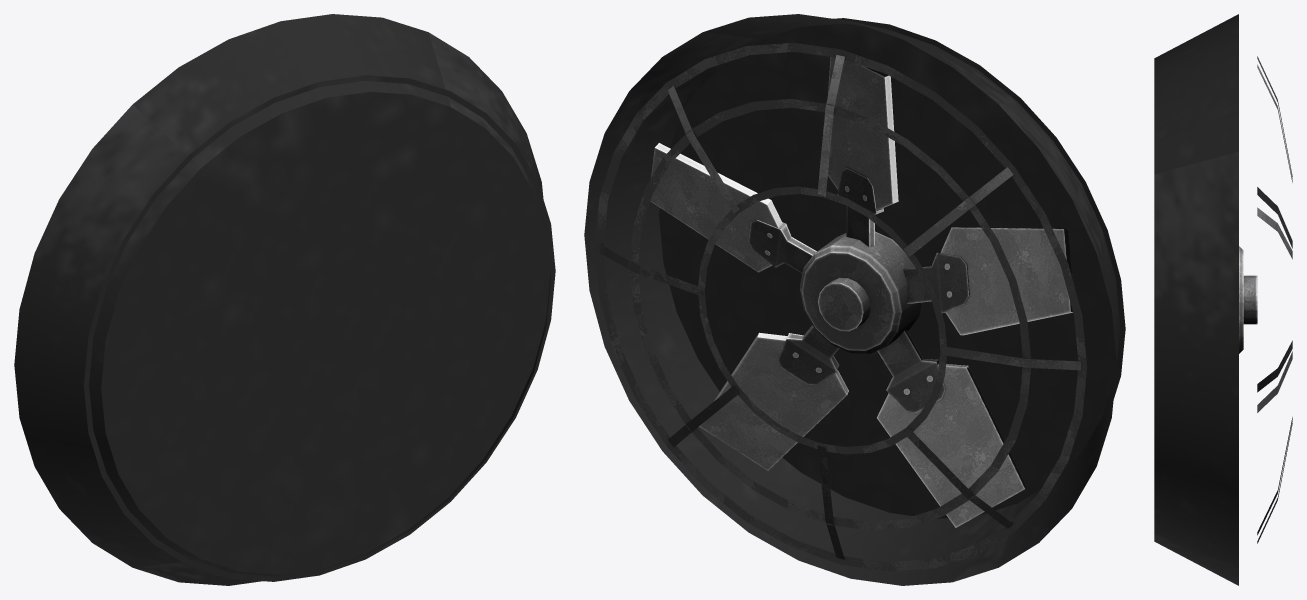
The model's file is Fan_Unity.fbx.
3 renders of one model, left to right at view 1: azimuth 30°, elevation 25°; view 2: azimuth 150°, elevation 25°; view 3: azimuth 270°, elevation 25°, orthographic. The views are drawn at different scales.
Parts seen in each view (by area): view 1: Fan_Plane, Frame; view 2: Frame, Fan_Plane, Fan; view 3: Frame, Fan.
Boxes of the visible parts, bbox=[...] form: Fan_Plane: bbox=[84, 75, 555, 581]; Frame: bbox=[14, 14, 550, 585]; Frame: bbox=[584, 14, 1120, 585]; Fan_Plane: bbox=[659, 18, 1125, 518]; Fan: bbox=[650, 48, 1072, 527]; Frame: bbox=[1154, 14, 1292, 585]; Fan: bbox=[1239, 246, 1257, 353].
Size of the model in its own units: 7.27 by 7.27 by 1.76.
Materials: 1 (1 with a texture image).
